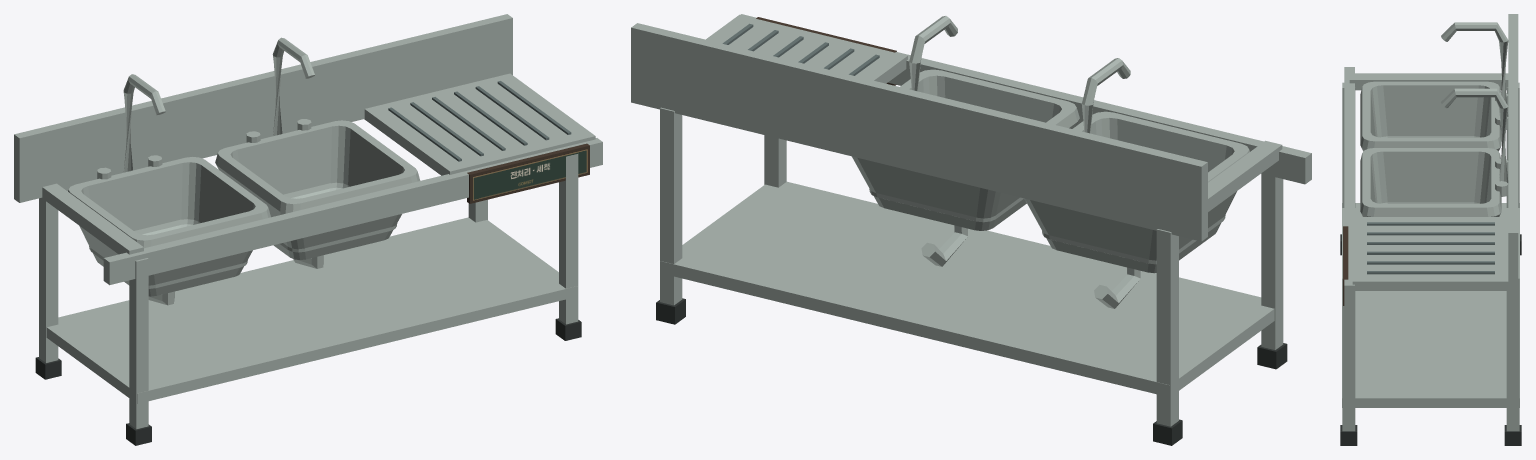
File: 09_Twin_Wash_Station.fbx
3 renders of one model, left to right at view 1: azimuth 30°, elevation 25°; view 2: azimuth 150°, elevation 25°; view 3: azimuth 270°, elevation 25°, orthographic. The views are drawn at different scales.
Visible parts, largest first — view 1: 09_Twin_Wash_Station__Structure; view 2: 09_Twin_Wash_Station__Structure; view 3: 09_Twin_Wash_Station__Structure.
Part boxes in pixels (x1,y1,x2,y2): 09_Twin_Wash_Station__Structure: (14, 14, 602, 445); 09_Twin_Wash_Station__Structure: (631, 14, 1311, 445); 09_Twin_Wash_Station__Structure: (1340, 14, 1521, 445).
Bounding box in the file's own units: 271 × 151 × 95.
Materials: 2 (2 with a texture image).
